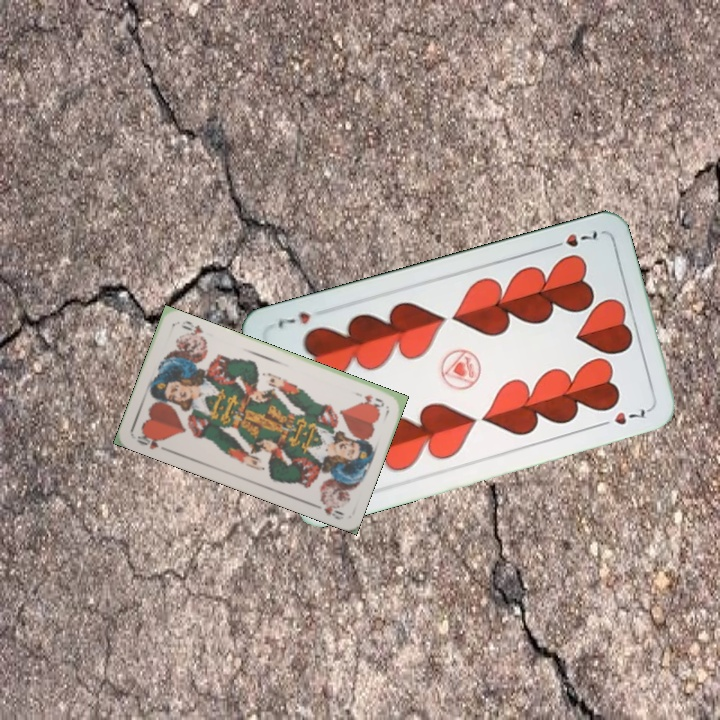H7: (545, 226, 600, 252)
HO: (132, 428, 170, 454), (351, 388, 387, 409)
